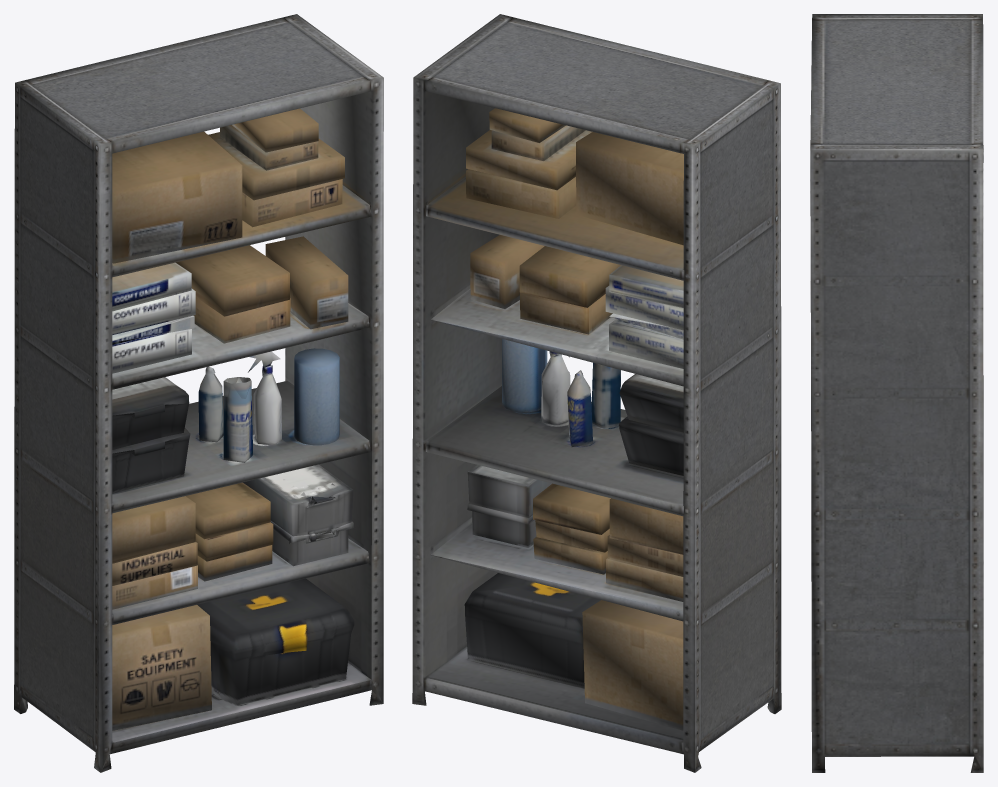
File: industrial_shelving_3d_model.fbx
The picture shows the model from 3 angles, left to right: view 1: azimuth 30°, elevation 25°; view 2: azimuth 150°, elevation 25°; view 3: azimuth 270°, elevation 25°; orthographic projection.
Visible parts, largest first — view 1: tripo_node_df099212-9b35-43d3-8645-3658dbd6872d; view 2: tripo_node_df099212-9b35-43d3-8645-3658dbd6872d; view 3: tripo_node_df099212-9b35-43d3-8645-3658dbd6872d.
Boxes of the visible parts, x1=… form: tripo_node_df099212-9b35-43d3-8645-3658dbd6872d: x1=14, y1=14, x2=383, y2=772; tripo_node_df099212-9b35-43d3-8645-3658dbd6872d: x1=412, y1=14, x2=781, y2=772; tripo_node_df099212-9b35-43d3-8645-3658dbd6872d: x1=810, y1=14, x2=983, y2=772.
Bounding box in the file's own units: 0.4722 × 0.9995 × 0.2524.
1 material, 1 textured.
